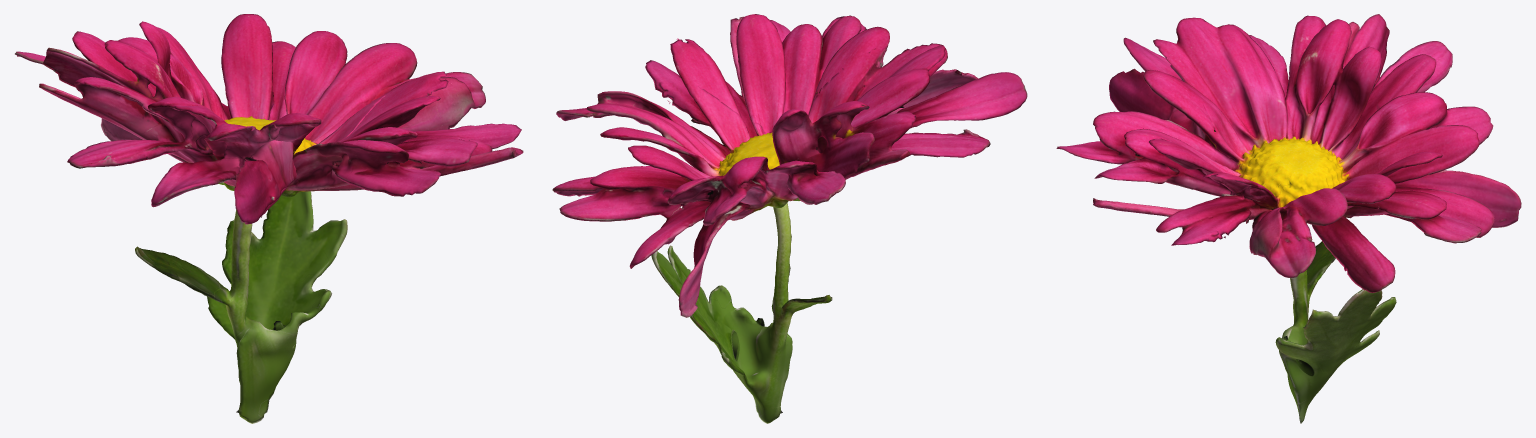
Rendered from obj_chrystanthemum_flower_a026f1.glb.
3 renders of one model, left to right at view 1: azimuth 30°, elevation 25°; view 2: azimuth 150°, elevation 25°; view 3: azimuth 270°, elevation 25°, orthographic. The views are drawn at different scales.
Parts seen in each view (by area): view 1: obj_chrystanthemum_flower_a026f1; view 2: obj_chrystanthemum_flower_a026f1; view 3: obj_chrystanthemum_flower_a026f1.
Part boxes in pixels (left/top/right/bottom): obj_chrystanthemum_flower_a026f1: left=15, top=14, right=523, bottom=423; obj_chrystanthemum_flower_a026f1: left=552, top=14, right=1027, bottom=423; obj_chrystanthemum_flower_a026f1: left=1056, top=14, right=1521, bottom=423.
Size of the model in its own units: 0.5269 by 0.45 by 0.5427.
Materials: 1 (1 with a texture image).
